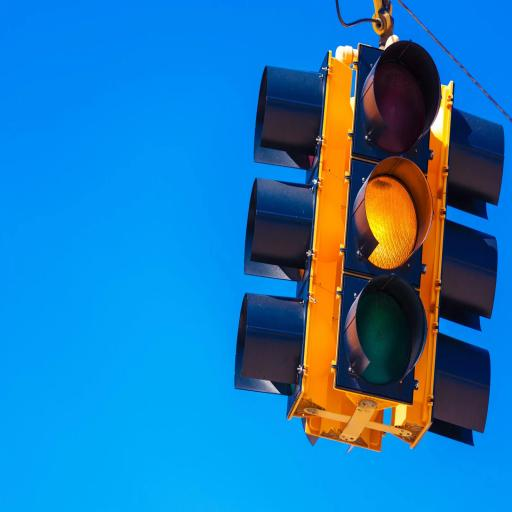traffic light: (228, 24, 334, 431), (333, 39, 442, 410), (438, 62, 501, 482)
